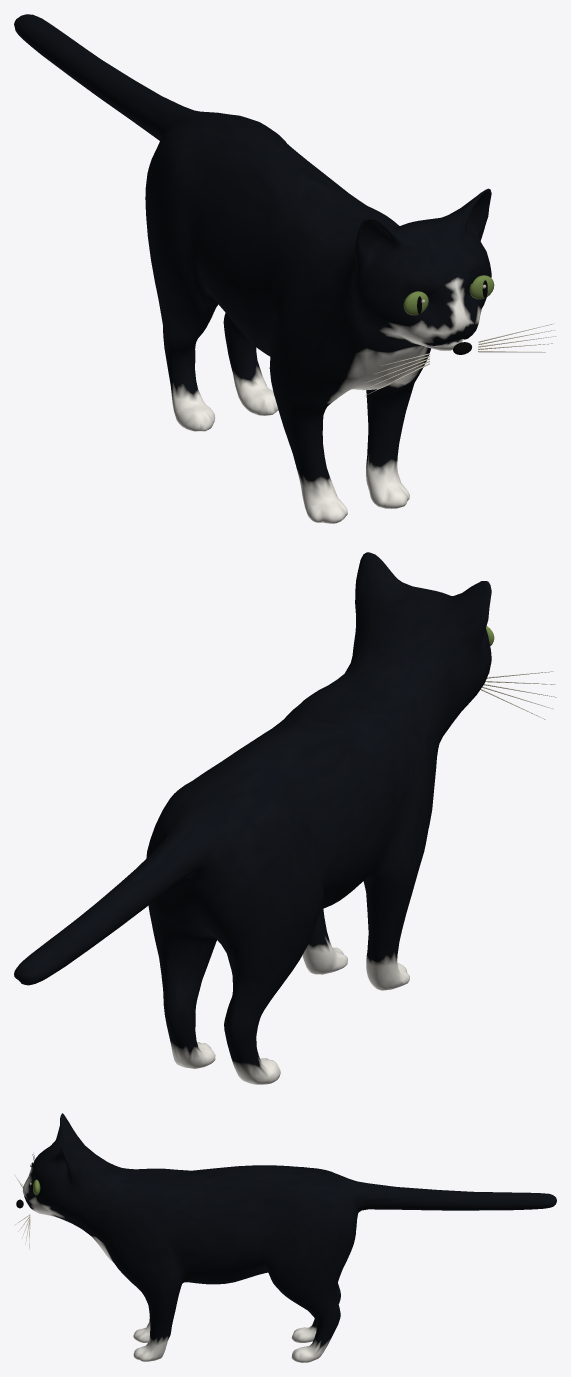
File: Ernie_model.obj
The picture shows the model from 3 angles, top to bottom: view 1: azimuth 30°, elevation 25°; view 2: azimuth 150°, elevation 25°; view 3: azimuth 270°, elevation 25°; orthographic projection. The views are drawn at different scales.
Parts seen in each view (by area): view 1: Ernie; view 2: Ernie; view 3: Ernie.
Boxes of the visible parts, x1,y1,x2,y2 form: Ernie: (14,14,556,523); Ernie: (14,552,556,1084); Ernie: (14,1113,556,1362).
Size of the model in its own units: 0.2508 by 0.4509 by 1.01.
Materials: 4 (1 with a texture image).
